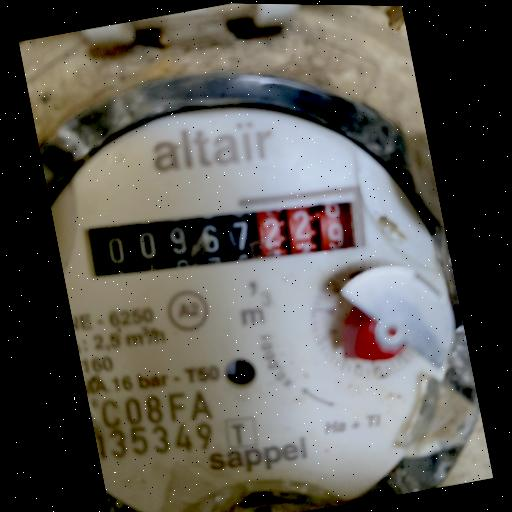0: (86, 221, 137, 280), (124, 218, 171, 276)
1: (310, 198, 360, 255)
2: (252, 206, 295, 262), (283, 204, 323, 258)
6: (191, 212, 234, 268)
7: (220, 208, 265, 265)
9: (157, 215, 204, 273)
border_water_meter_number: (78, 163, 371, 301)
